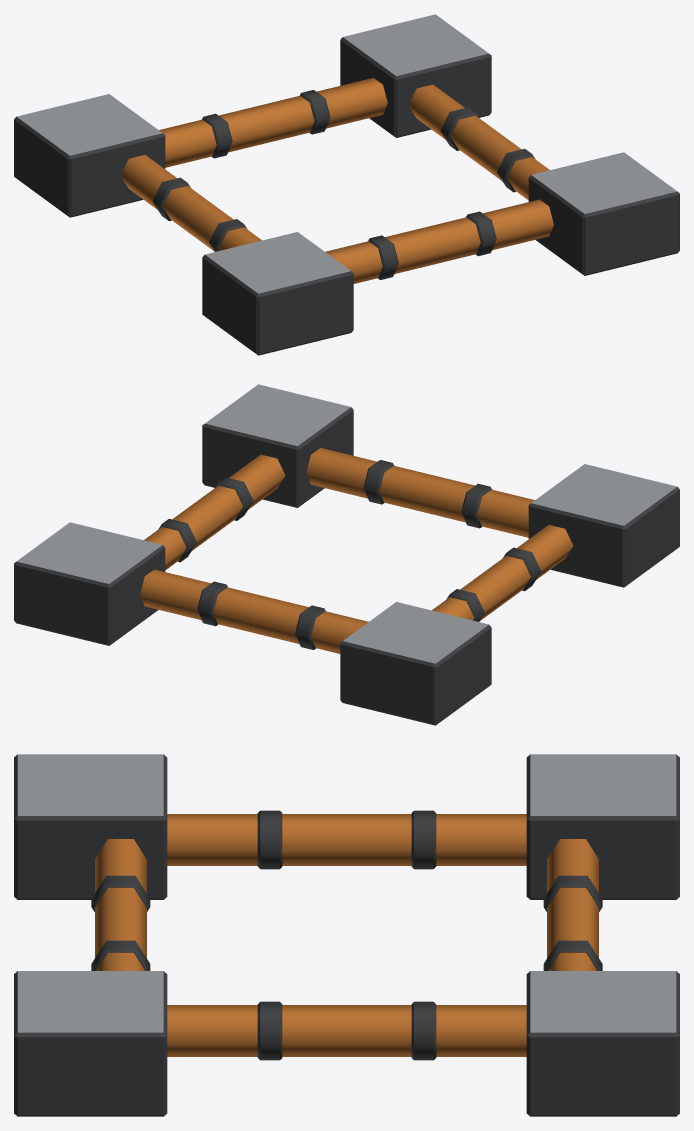
File: R4C_ROD_FRAME_LOD1.fbx
3 views of the same model, one above another, from view 1: azimuth 30°, elevation 25°; view 2: azimuth 150°, elevation 25°; view 3: azimuth 270°, elevation 25° (orthographic). The views are drawn at different scales.
Parts seen in each view (by area): view 1: R4C_ROD_FRAME_LOD1; view 2: R4C_ROD_FRAME_LOD1; view 3: R4C_ROD_FRAME_LOD1.
Boxes of the visible parts, x1=… form: R4C_ROD_FRAME_LOD1: x1=14, y1=14, x2=679, y2=355; R4C_ROD_FRAME_LOD1: x1=14, y1=384, x2=679, y2=725; R4C_ROD_FRAME_LOD1: x1=14, y1=754, x2=679, y2=1116.
Size of the model in its own units: 1.62 by 0.226 by 1.62.
